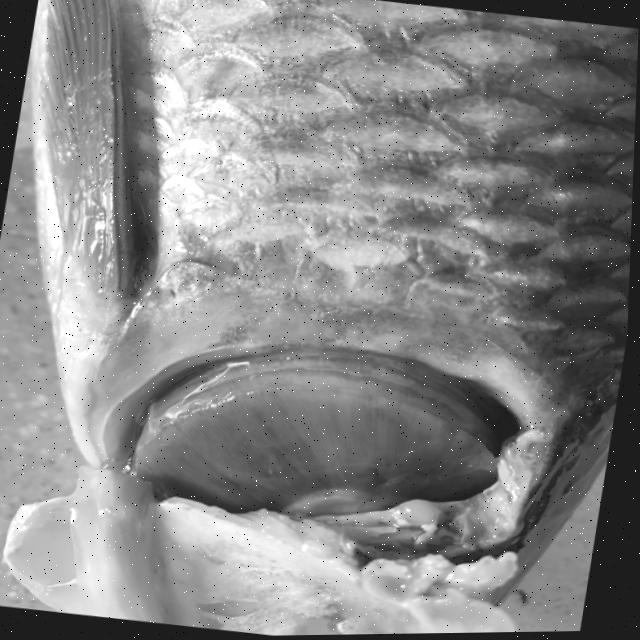Fresh: (59, 296, 596, 604)
